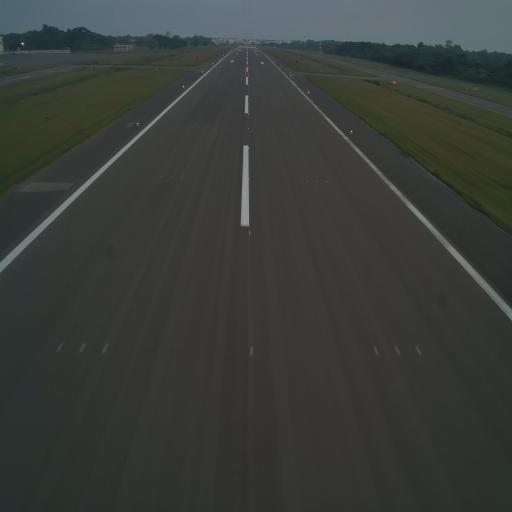off: (410, 336, 424, 364), (74, 340, 88, 360), (392, 340, 404, 362), (369, 338, 382, 358), (55, 337, 66, 357), (99, 335, 109, 357), (159, 174, 164, 184), (305, 176, 309, 186), (325, 178, 330, 186), (169, 174, 174, 180), (315, 178, 319, 185), (180, 175, 184, 180)
on: (248, 344, 257, 361), (244, 224, 252, 237), (246, 176, 251, 186), (246, 123, 250, 131), (350, 128, 354, 136), (136, 121, 140, 128), (246, 145, 250, 151)
